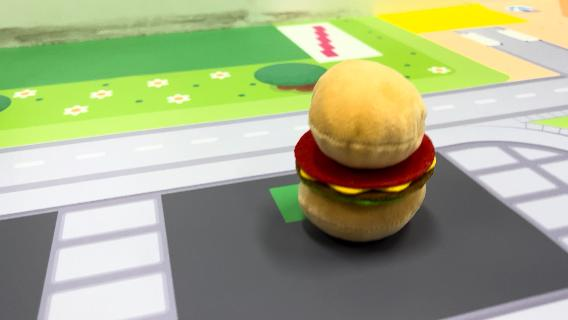burger: (290, 57, 440, 245)
